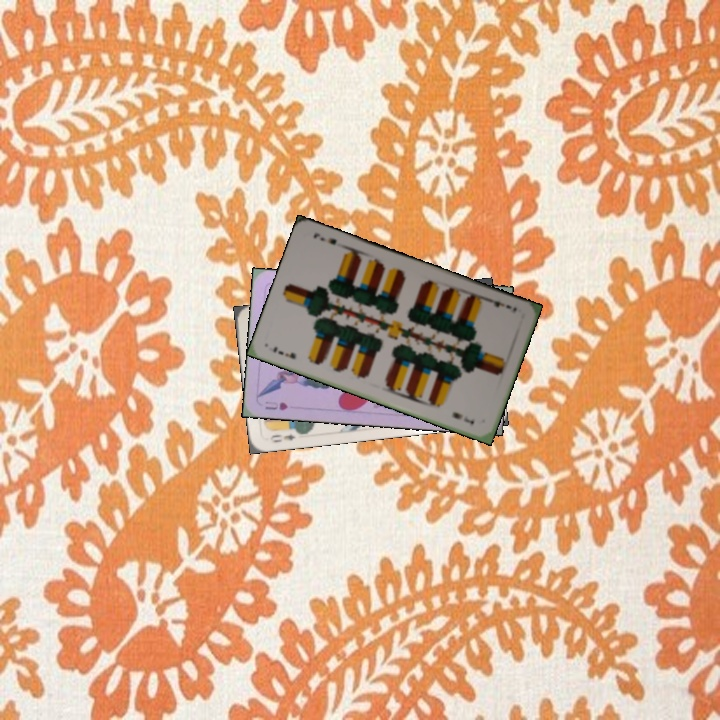E7: (483, 294, 519, 316), (269, 342, 298, 362)
EO: (266, 424, 303, 445)
HU: (261, 397, 290, 413)
